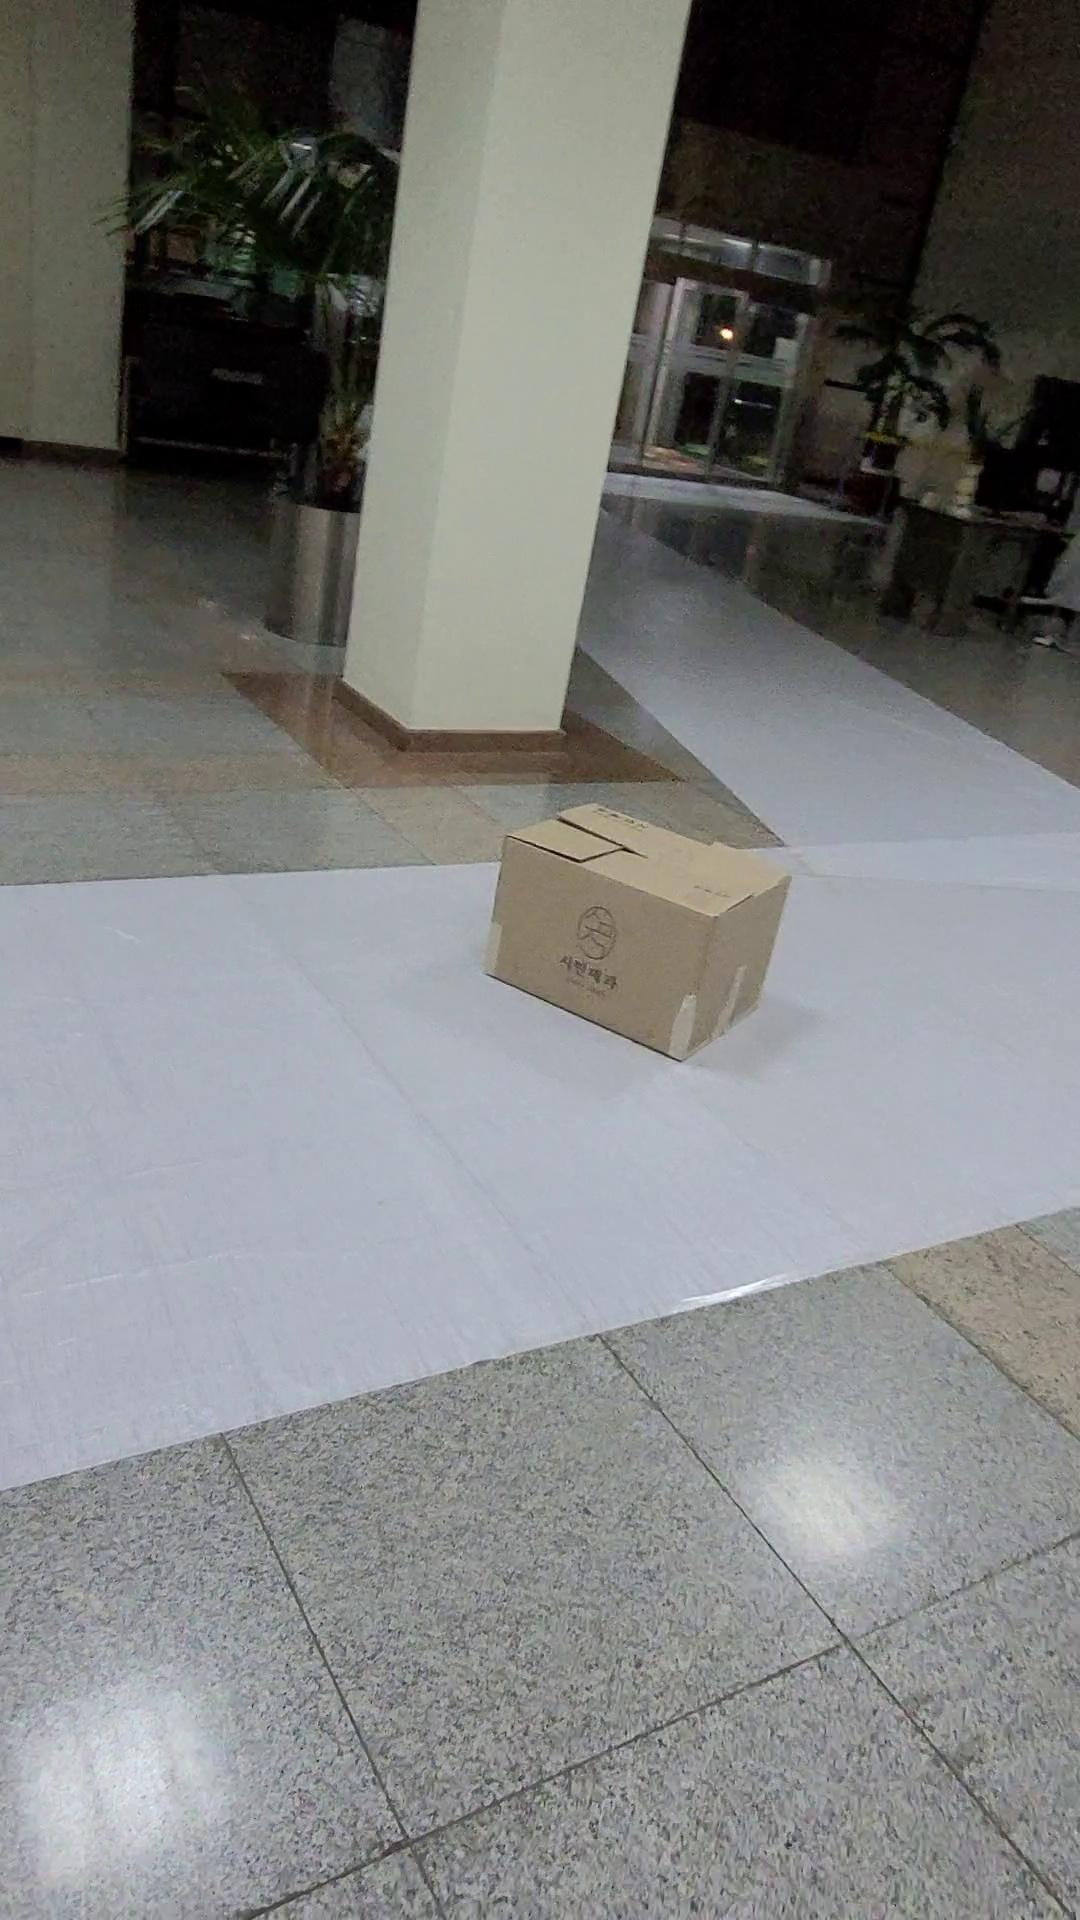Box: (456, 781, 810, 1080)
